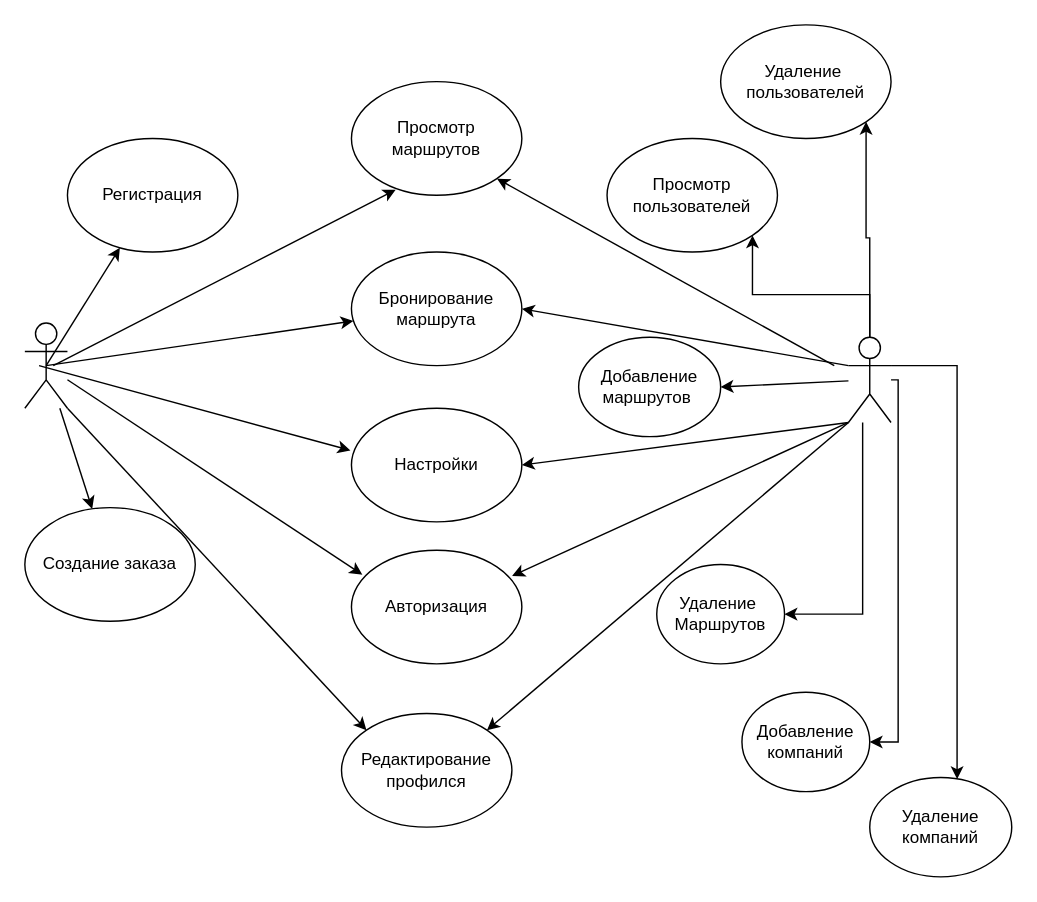
This 1037x902 diagram has some shape labels left out. The centre of each missing label's shape, as x and y in pixels:
"User" goes at pixel 45 365.
"Аdmin" goes at pixel 869 379.
